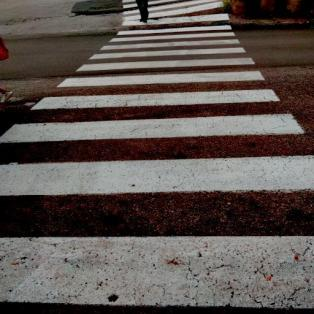Paso de Cebra: (0, 85, 307, 146), (83, 37, 251, 61)
